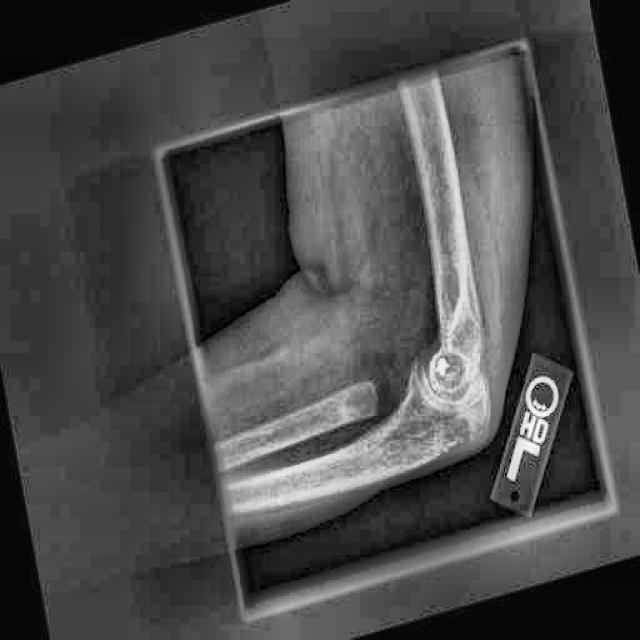elbow positive: (339, 341, 437, 451)
